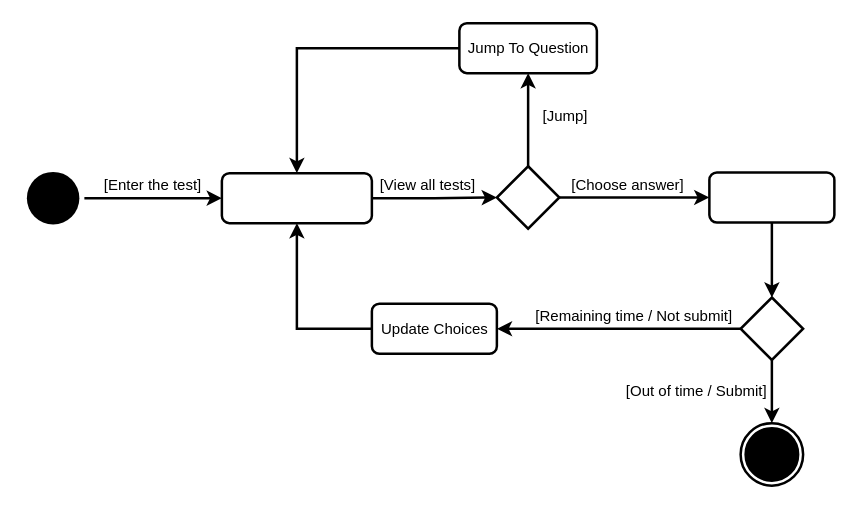
The diagram is 856 pixels wide and 508 high, and some of its shapes have lost their labels. The shapes that lost their labels are listed below. From the top down, each one's box as (x1, y1, x2, y2) in pixels, then its label:
(220, 171, 372, 224): Display Questions
(708, 171, 835, 223): Select Answer
